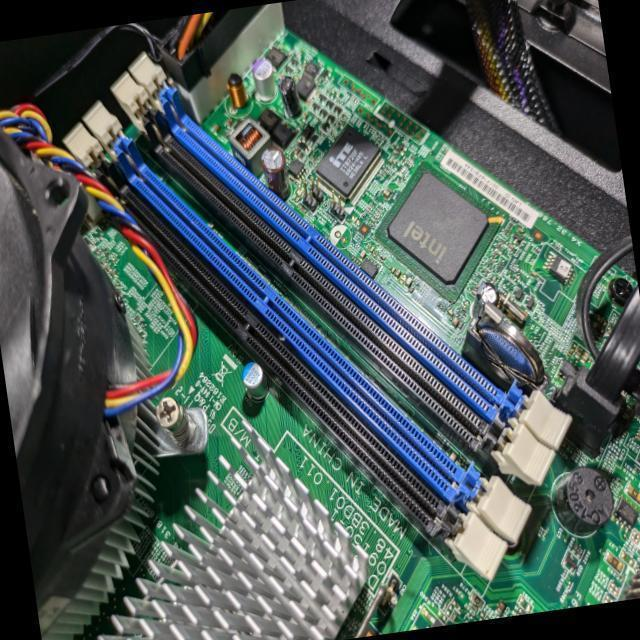CPU_Fan: (0, 82, 176, 640)
Mainboard: (0, 0, 640, 640)
